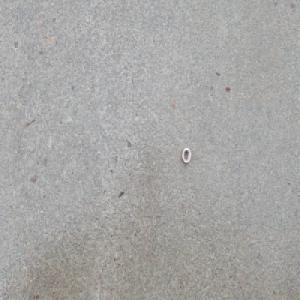Nut: (181, 146, 191, 164)
